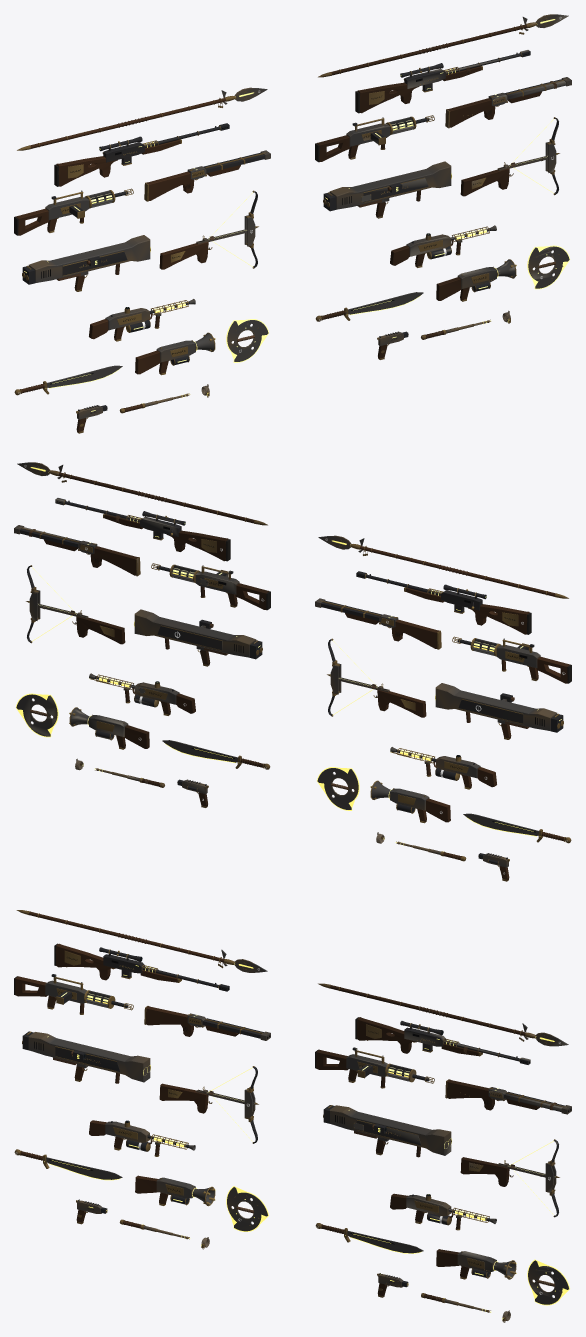
Rendered from varn_arsenal_all.glb.
3 views of the same model, one above another, from view 1: azimuth 30°, elevation 25°; view 2: azimuth 150°, elevation 25°; view 3: azimuth 330°, elevation 25° (orthographic).
Visible parts, largest first — view 1: varn_launcher_body (×2), varn_rifle_body (×2), varn_carbine_body (×2), varn_flamer_body (×2), varn_netlauncher_body (×2), varn_spear_body (×2), varn_crossbow_body (×2), varn_glaive_body (×2), varn_shotgun_body (×2), varn_warblade_body (×2), barrels (×2); view 2: varn_launcher_body (×2), varn_rifle_body (×2), varn_carbine_body (×2), varn_flamer_body (×2), varn_netlauncher_body (×2), varn_spear_body (×2), varn_crossbow_body (×2), varn_glaive_body (×2), varn_shotgun_body (×2), varn_warblade_body (×2), barrels (×2); view 3: varn_launcher_body (×2), varn_rifle_body (×2), varn_carbine_body (×2), varn_flamer_body (×2), varn_spear_body (×2), varn_netlauncher_body (×2), varn_crossbow_body (×2), varn_glaive_body (×2), varn_shotgun_body (×2), varn_warblade_body (×2), barrels (×2).
Part boxes in pixels (bbox=[...]): varn_launcher_body (×2): bbox=[28, 161, 451, 291]; varn_rifle_body (×2): bbox=[54, 50, 530, 186]; varn_carbine_body (×2): bbox=[14, 115, 434, 235]; varn_flamer_body (×2): bbox=[89, 225, 496, 341]; varn_netlauncher_body (×2): bbox=[135, 259, 516, 375]; varn_spear_body (×2): bbox=[17, 14, 568, 150]; varn_crossbow_body (×2): bbox=[159, 142, 556, 269]; varn_glaive_body (×2): bbox=[227, 246, 569, 361]; varn_shotgun_body (×2): bbox=[144, 92, 507, 201]; varn_warblade_body (×2): bbox=[14, 292, 423, 395]; barrels (×2): bbox=[203, 77, 571, 176]; varn_launcher_body (×2): bbox=[134, 609, 557, 739]; varn_rifle_body (×2): bbox=[55, 498, 531, 634]; varn_carbine_body (×2): bbox=[151, 563, 571, 683]; varn_flamer_body (×2): bbox=[89, 673, 496, 789]; varn_netlauncher_body (×2): bbox=[69, 707, 450, 823]; varn_spear_body (×2): bbox=[17, 462, 568, 598]; varn_crossbow_body (×2): bbox=[29, 590, 426, 717]; varn_glaive_body (×2): bbox=[16, 694, 358, 809]; varn_shotgun_body (×2): bbox=[78, 540, 441, 649]; varn_warblade_body (×2): bbox=[162, 740, 571, 843]; barrels (×2): bbox=[14, 525, 382, 624]; varn_launcher_body (×2): bbox=[28, 1032, 451, 1157]; varn_rifle_body (×2): bbox=[54, 943, 530, 1064]; varn_carbine_body (×2): bbox=[14, 974, 434, 1088]; varn_flamer_body (×2): bbox=[89, 1120, 496, 1230]; varn_spear_body (×2): bbox=[16, 910, 568, 1046]; varn_netlauncher_body (×2): bbox=[135, 1175, 516, 1279]; varn_crossbow_body (×2): bbox=[159, 1083, 556, 1193]; varn_glaive_body (×2): bbox=[227, 1187, 568, 1304]; varn_shotgun_body (×2): bbox=[144, 1006, 506, 1110]; varn_warblade_body (×2): bbox=[14, 1149, 423, 1253]; barrels (×2): bbox=[203, 1018, 571, 1114].
Bounding box in the file's own units: 4.98 × 2.64 × 0.247.
